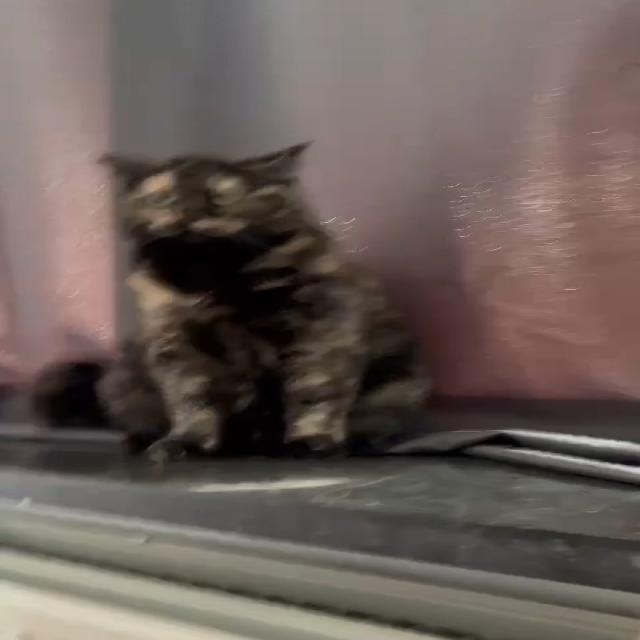authorized: (94, 139, 434, 463)
